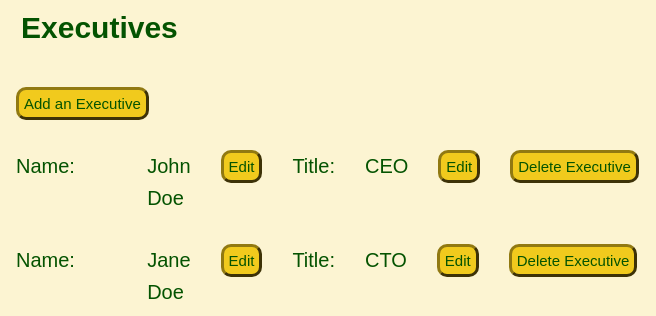
should not render name, title or delete button when delete button for one executive is pressed
This screenshot has width=656, height=316.
Click the button "Delete Executive" in the row of "CEO". click: (574, 166)
box: [510,150,639,183]
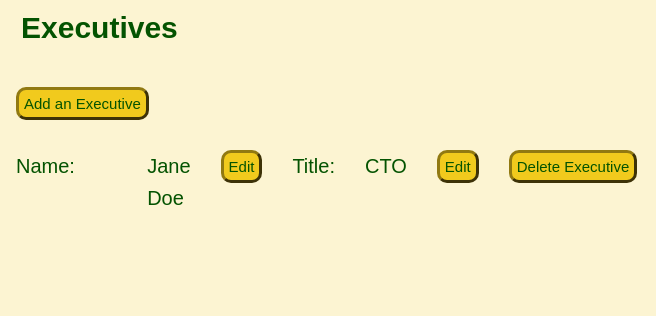
Check: the heading "Jane Doe" is shown, box [147,150,191,214]
Check: the heading "John Doe" is gone
Check: the heading "CEO" is gone
